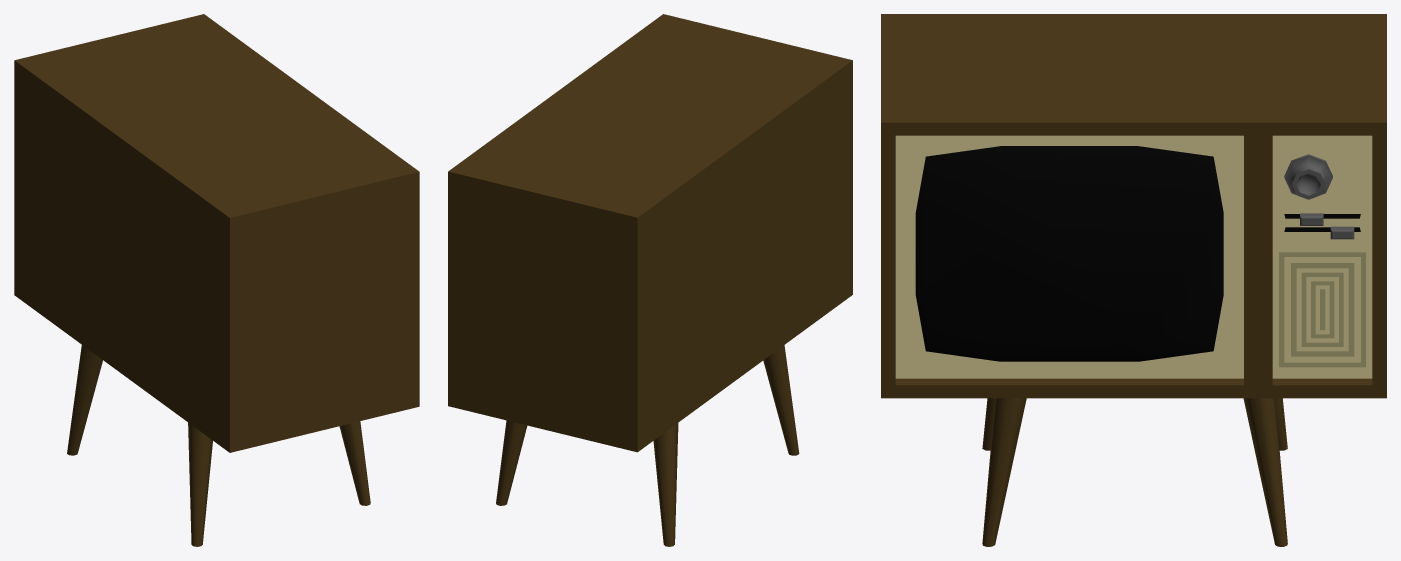
Rendered from SM_Television.fbx.
The picture shows the model from 3 angles, left to right: view 1: azimuth 30°, elevation 25°; view 2: azimuth 150°, elevation 25°; view 3: azimuth 270°, elevation 25°; orthographic projection. The views are drawn at different scales.
Visible parts, largest first — view 1: Télévision; view 2: Télévision; view 3: Télévision.
Boxes of the visible parts, left/top/right/bottom form: Télévision: left=14, top=14, right=419, bottom=546; Télévision: left=448, top=14, right=852, bottom=546; Télévision: left=881, top=14, right=1386, bottom=546.
Size of the model in its own units: 457 by 823 by 885.
